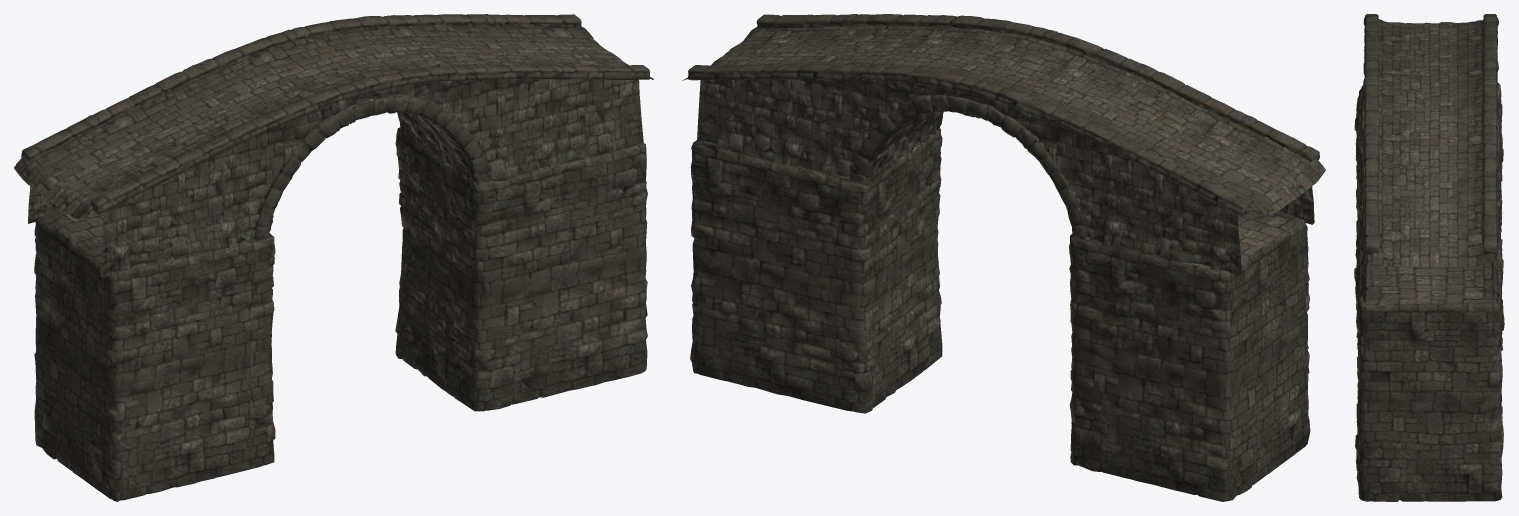
Rendered from Bridge_01.fbx.
3 views of the same model, side by side, from view 1: azimuth 30°, elevation 25°; view 2: azimuth 150°, elevation 25°; view 3: azimuth 270°, elevation 25° (orthographic). The views are drawn at different scales.
Visible parts, largest first — view 1: Bridge_01_Foundation, Bridge_01, Bridge_01_Way, Bridge_01_Ledge, Bridge_01_Archway; view 2: Bridge_01_Foundation, Bridge_01, Bridge_01_Way, Bridge_01_Ledge, Bridge_01_Archway; view 3: Bridge_01_Foundation, Bridge_01_Way, Bridge_01_Ledge, Bridge_01, Bridge_01_Archway.
Part boxes in pixels (x1,y1,x2,y2): Bridge_01_Foundation: (34,127,647,501); Bridge_01: (28,78,643,277); Bridge_01_Way: (14,26,653,218); Bridge_01_Ledge: (21,14,650,214); Bridge_01_Archway: (254,94,491,239); Bridge_01_Foundation: (690,127,1310,501); Bridge_01: (697,78,1314,278); Bridge_01_Way: (682,24,1325,220); Bridge_01_Ledge: (688,14,1319,215); Bridge_01_Archway: (849,94,1087,239); Bridge_01_Foundation: (1354,83,1504,501); Bridge_01_Way: (1371,19,1493,267); Bridge_01_Ledge: (1363,14,1498,253); Bridge_01: (1358,70,1500,304); Bridge_01_Archway: (1361,85,1497,233).
Size of what is drawn, in the model's own units: 2991 by 1763 by 786.
